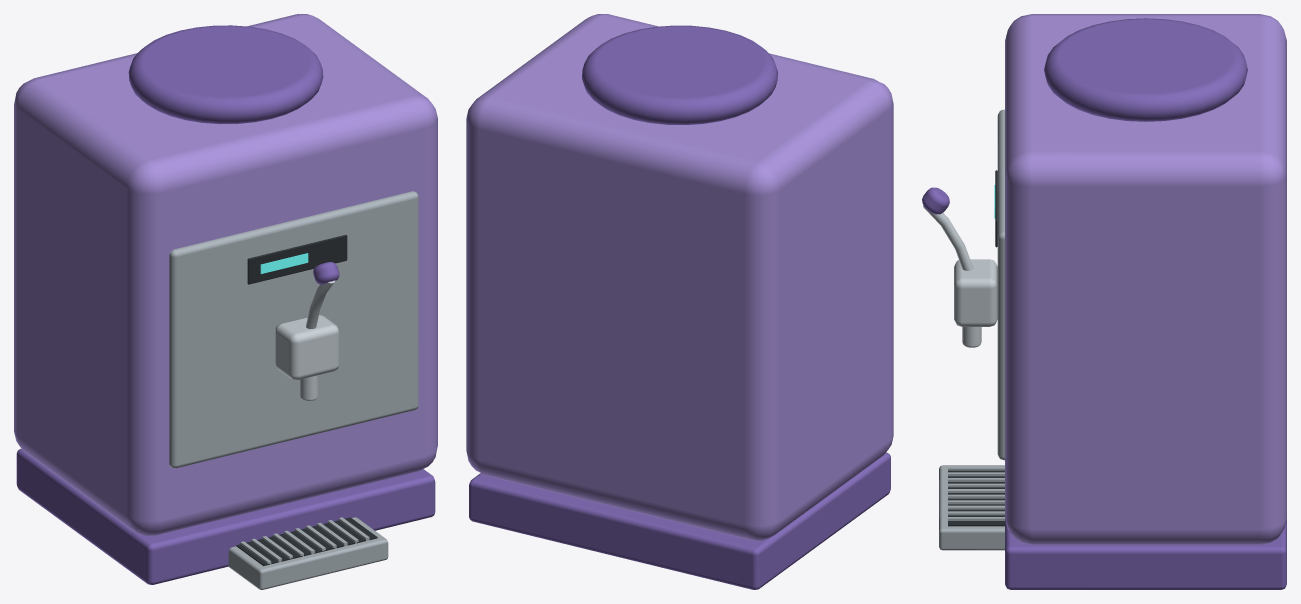
Rendered from SM_IceCreamMachine.glb.
The picture shows the model from 3 angles, left to right: view 1: azimuth 30°, elevation 25°; view 2: azimuth 150°, elevation 25°; view 3: azimuth 270°, elevation 25°; orthographic projection. The views are drawn at different scales.
Visible parts, largest first — view 1: SM_IceCreamMachine, Lid, Lever; view 2: SM_IceCreamMachine, Lid; view 3: SM_IceCreamMachine, Lid, Lever.
Part boxes in pixels (box(x1,y1,x2,y2)): SM_IceCreamMachine: box(14, 14, 437, 589); Lid: box(128, 25, 323, 124); Lever: box(306, 262, 339, 328); SM_IceCreamMachine: box(466, 14, 893, 589); Lid: box(582, 25, 777, 124); SM_IceCreamMachine: box(939, 14, 1286, 589); Lid: box(1044, 18, 1247, 121); Lever: box(922, 187, 973, 270).
Bounding box in the file's own units: 0.62 × 0.85 × 0.6083.
Materials: 4 (4 with a texture image).
